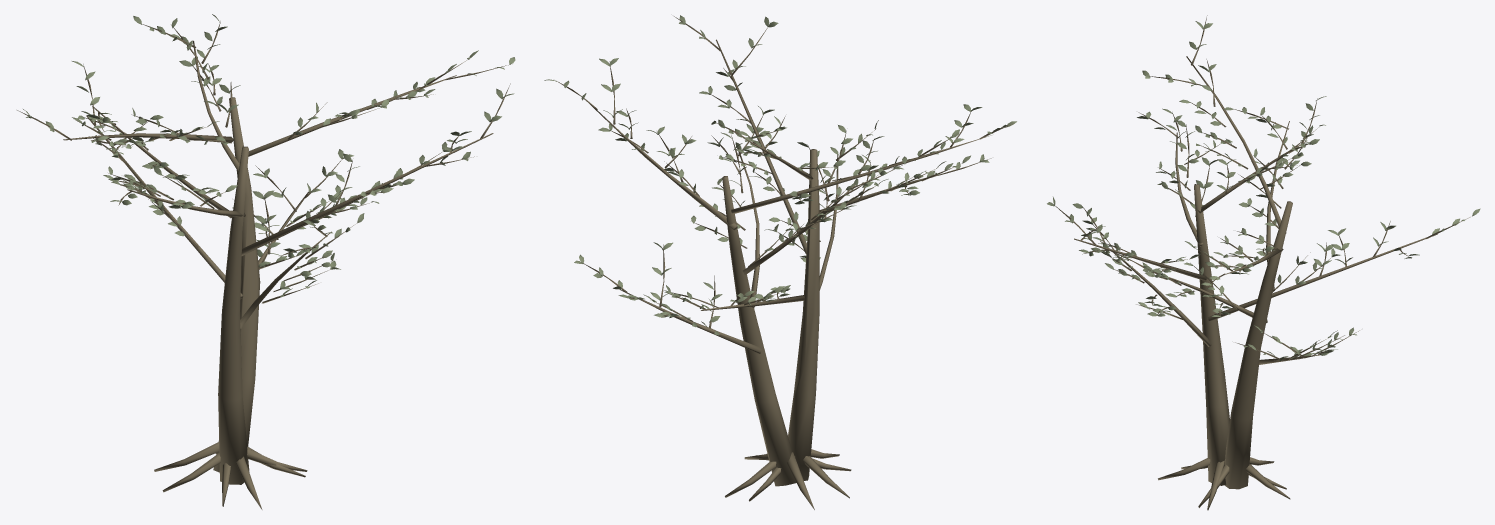
File: Oleastre_0_LOD1.fbx
3 renders of one model, left to right at view 1: azimuth 30°, elevation 25°; view 2: azimuth 150°, elevation 25°; view 3: azimuth 270°, elevation 25°, orthographic. The views are drawn at different scales.
Visible parts, largest first — view 1: Oleastre_0_LOD1; view 2: Oleastre_0_LOD1; view 3: Oleastre_0_LOD1.
Boxes of the visible parts, x1,y1,x2,y2 form: Oleastre_0_LOD1: (17,14,515,509); Oleastre_0_LOD1: (544,15,1016,509); Oleastre_0_LOD1: (1047,15,1480,510).
Size of the model in its own units: 453 by 373 by 392.
